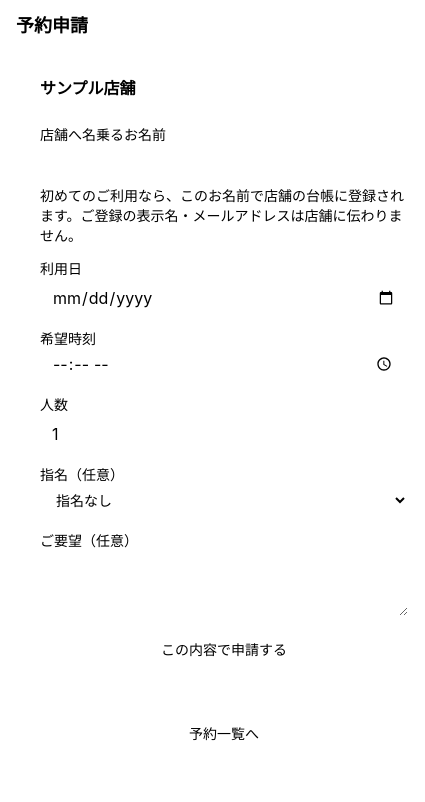
MemberReservationNewPage › 名乗る名前が未入力なら申請せずに検証エラーを出す
Type "2026-08-10" into the date field labelled "利用日".
click(224, 298); type("2026-08-10")  # box [40,280,408,316]
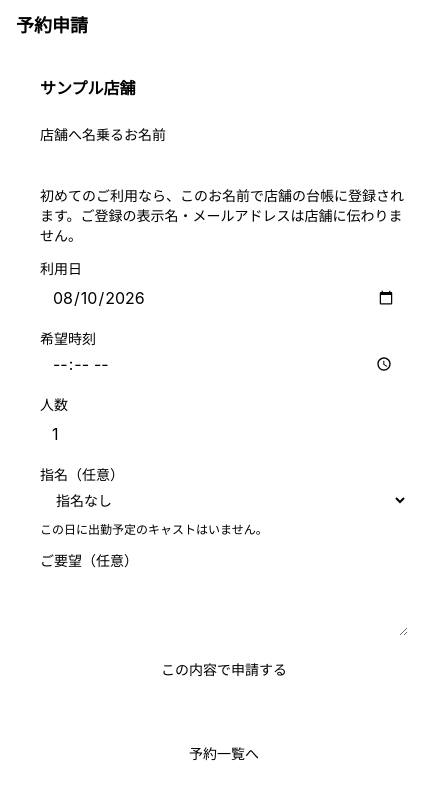
Click the button "この内容で申請する".
click(224, 670)  # box [40,652,408,688]
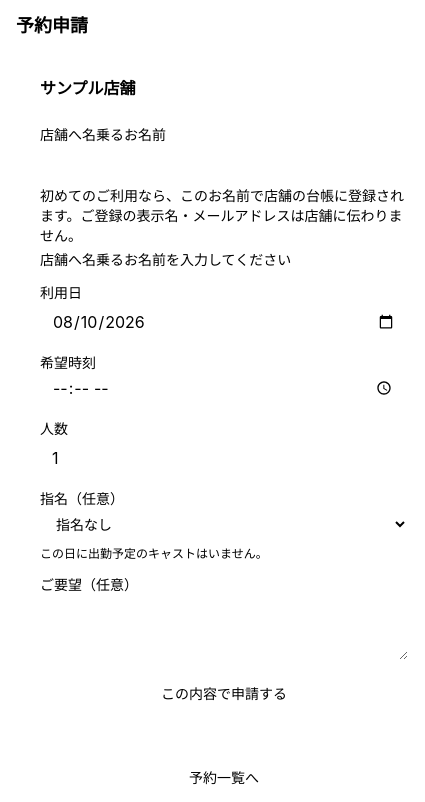
Expected: the text "店舗へ名乗るお名前を入力してください" is shown, [40,251,291,268]
